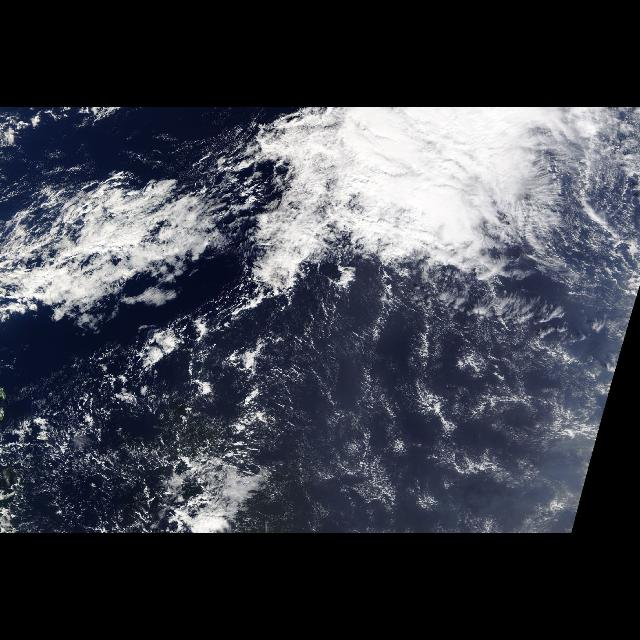Gravel: (24, 391, 176, 533)
Sugar: (277, 291, 597, 533)
